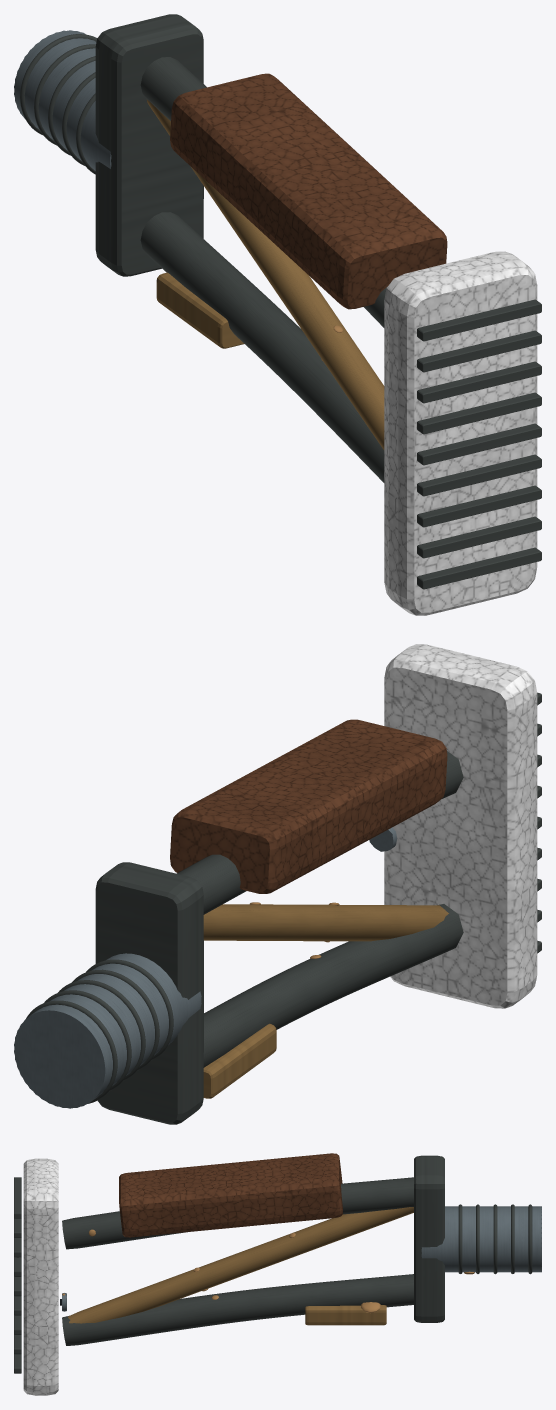
3 renders of one model, top to bottom at view 1: azimuth 30°, elevation 25°; view 2: azimuth 150°, elevation 25°; view 3: azimuth 270°, elevation 25°, orthographic. The views are drawn at different scales.
Parts seen in each view (by area): view 1: machined receiver, vulcanized grip, saddle leather, edge hardware, brushed steel; view 2: vulcanized grip, machined receiver, saddle leather, brushed steel, edge hardware; view 3: machined receiver, saddle leather, edge hardware, vulcanized grip, brushed steel.
Part boxes in pixels (box(x1,y1,x2,y2)): machined receiver: box(20, 14, 541, 589); vulcanized grip: box(384, 251, 537, 615); saddle leather: box(170, 73, 447, 309); edge hardware: box(146, 99, 384, 449); brushed steel: box(14, 30, 111, 170); vulcanized grip: box(384, 644, 537, 1008); machined receiver: box(26, 692, 541, 1124); saddle leather: box(170, 719, 447, 893); brushed steel: box(14, 827, 397, 1108); edge hardware: box(203, 904, 448, 1098); machined receiver: box(14, 1155, 532, 1373); saddle leather: box(119, 1153, 342, 1237); edge hardware: box(68, 1207, 413, 1325); vulcanized grip: box(23, 1158, 58, 1395); brushed steel: box(62, 1206, 541, 1311).
Bounding box in the file's own units: 0.0518 × 0.1215 × 0.272.
7 materials, 5 textured.
